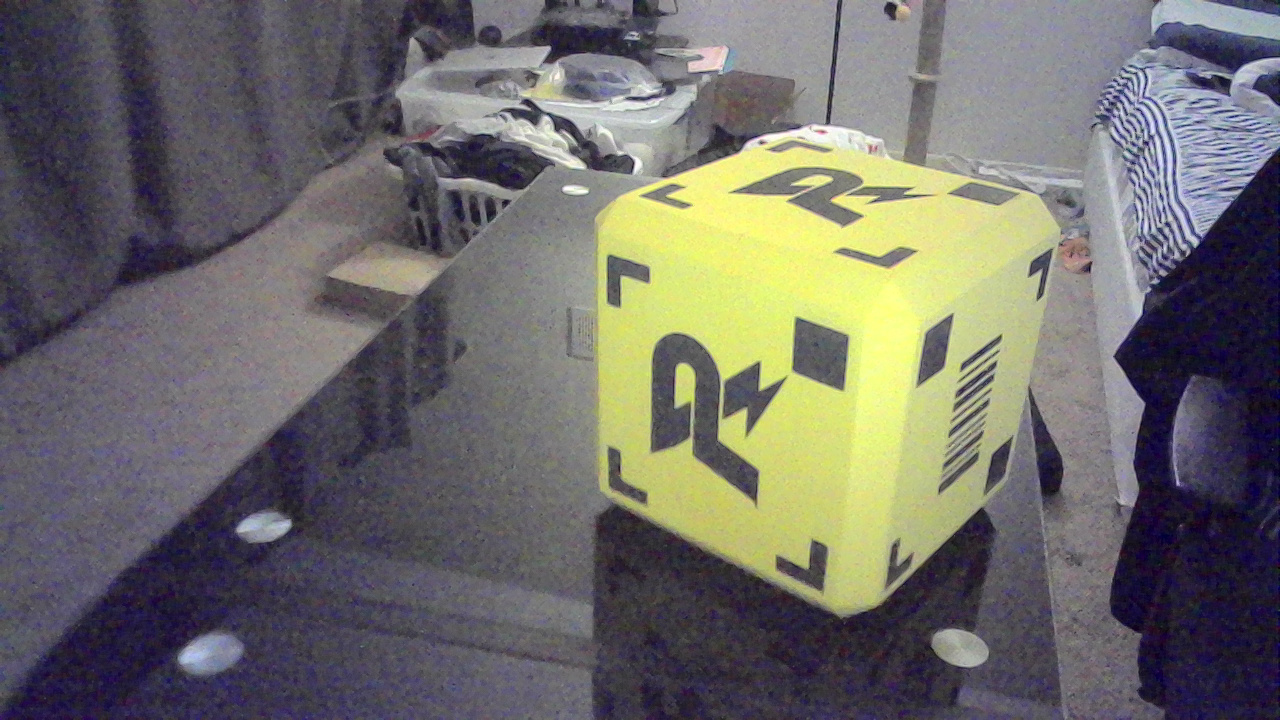Barcode: (944, 334, 1012, 504)
R: (647, 322, 797, 518), (744, 167, 954, 238)
